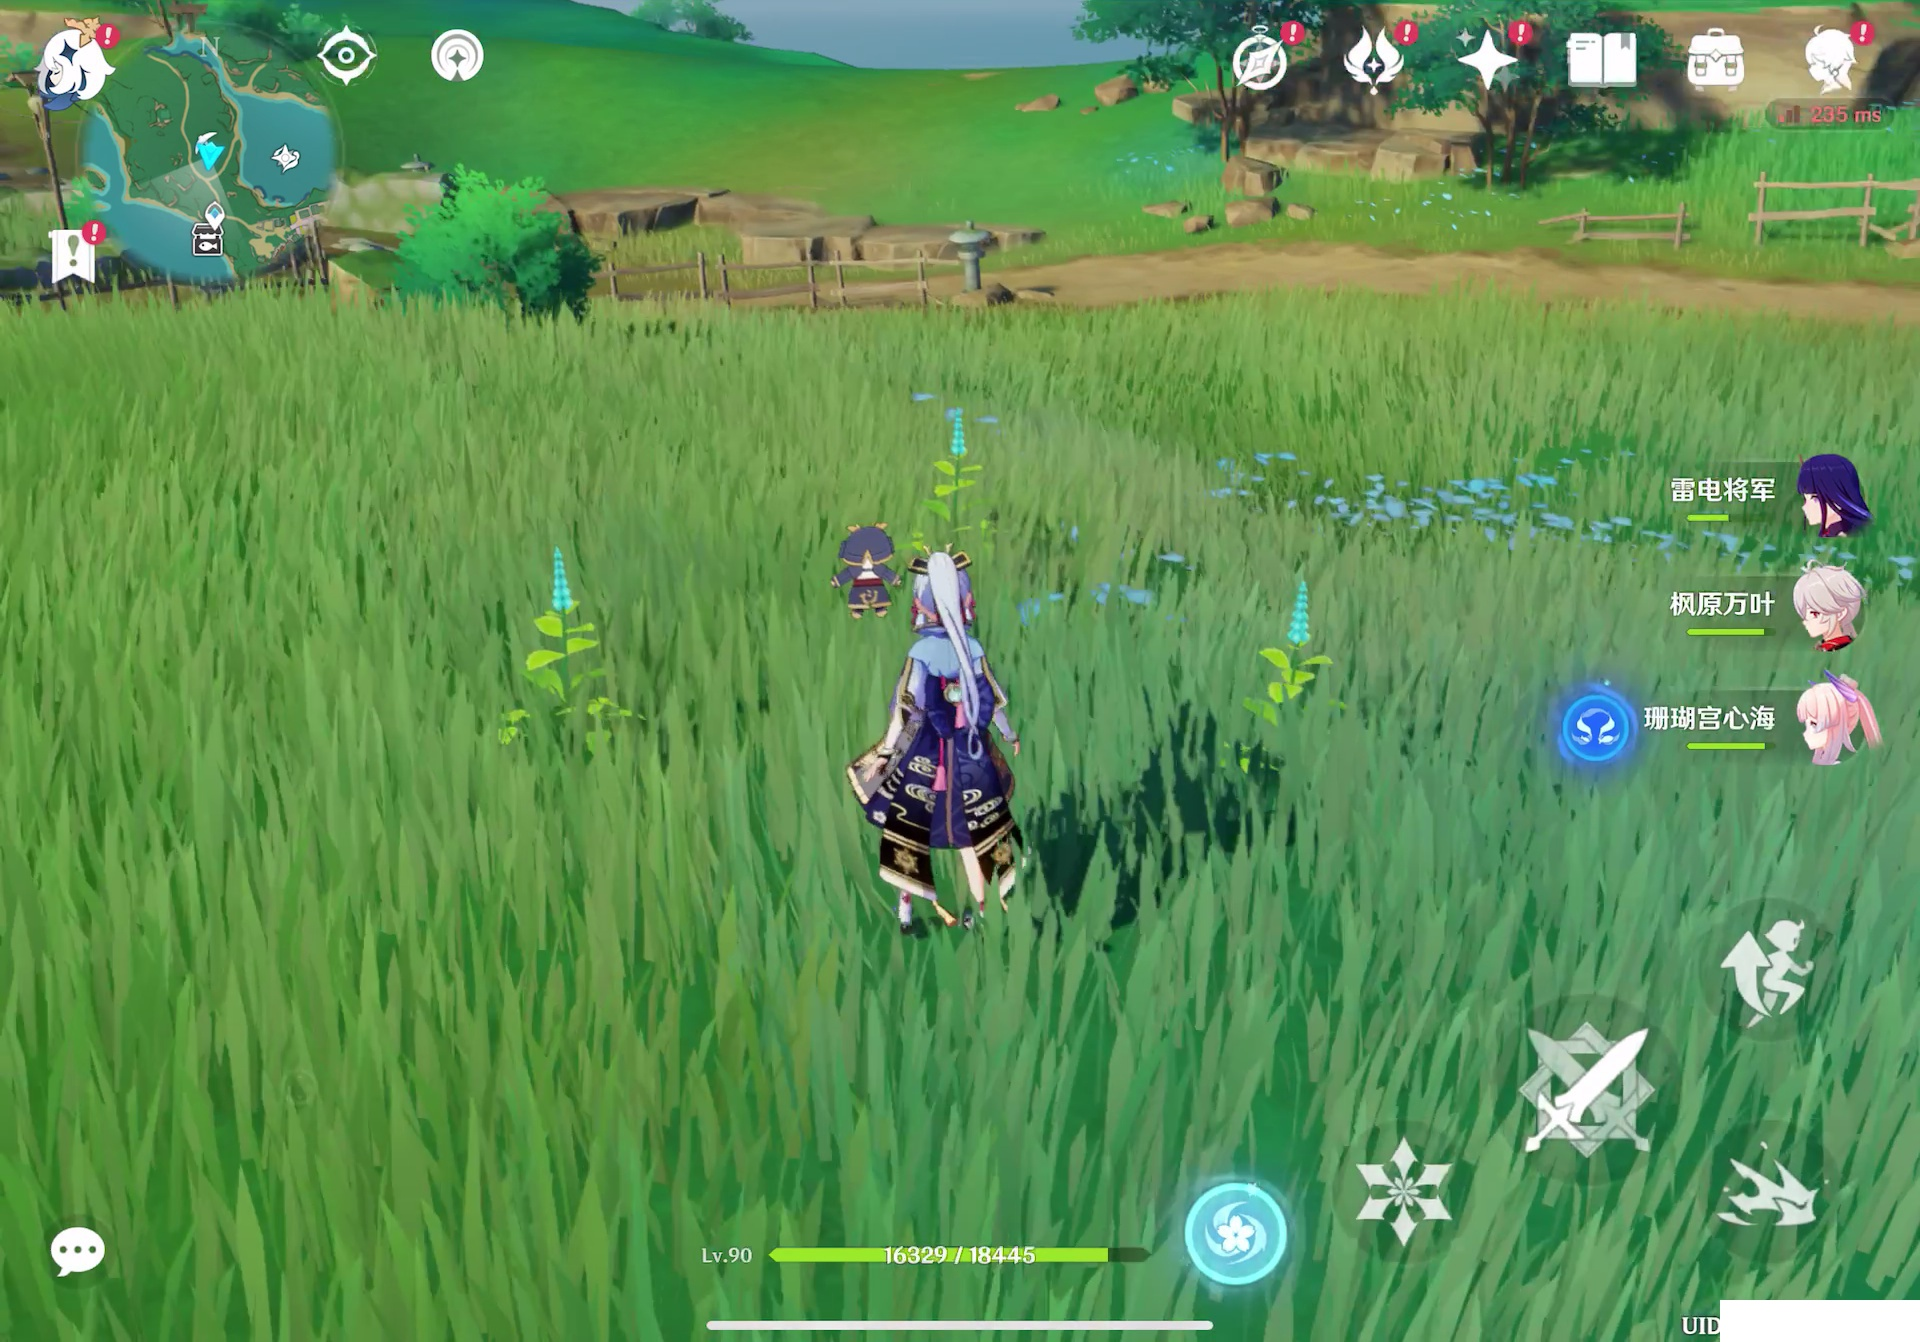没用的薄荷: (468, 538, 652, 777), (1218, 581, 1357, 769), (897, 406, 1015, 546)
神里绫龟: (835, 553, 1053, 941)
